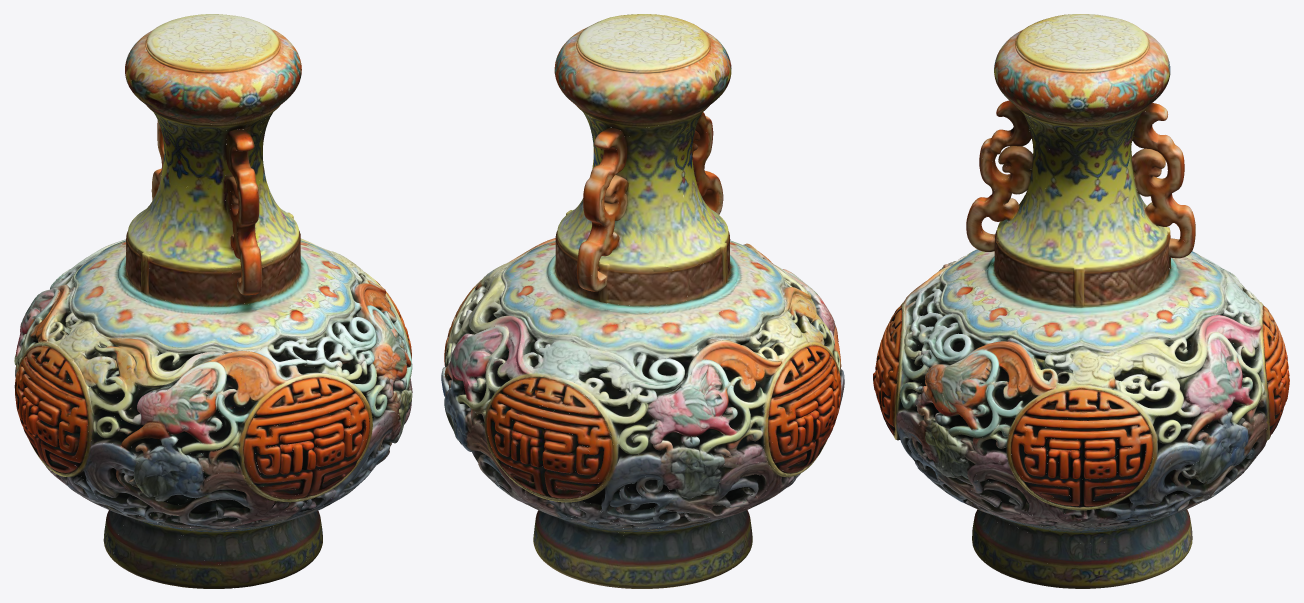
File: qing-fencai-openwork-vase.glb
The picture shows the model from 3 angles, left to right: view 1: azimuth 30°, elevation 25°; view 2: azimuth 150°, elevation 25°; view 3: azimuth 270°, elevation 25°; orthographic projection.
Visible parts, largest first — view 1: tripo_node_471fd4a5-87ee-47e4-9def-1af803593085; view 2: tripo_node_471fd4a5-87ee-47e4-9def-1af803593085; view 3: tripo_node_471fd4a5-87ee-47e4-9def-1af803593085.
Part boxes in pixels (x1,y1,x2,y2): tripo_node_471fd4a5-87ee-47e4-9def-1af803593085: (14,14,412,588); tripo_node_471fd4a5-87ee-47e4-9def-1af803593085: (441,14,844,588); tripo_node_471fd4a5-87ee-47e4-9def-1af803593085: (873,14,1289,588).
Size of the model in its own units: 0.728 by 0.9793 by 0.7314.
Materials: 1 (1 with a texture image).
